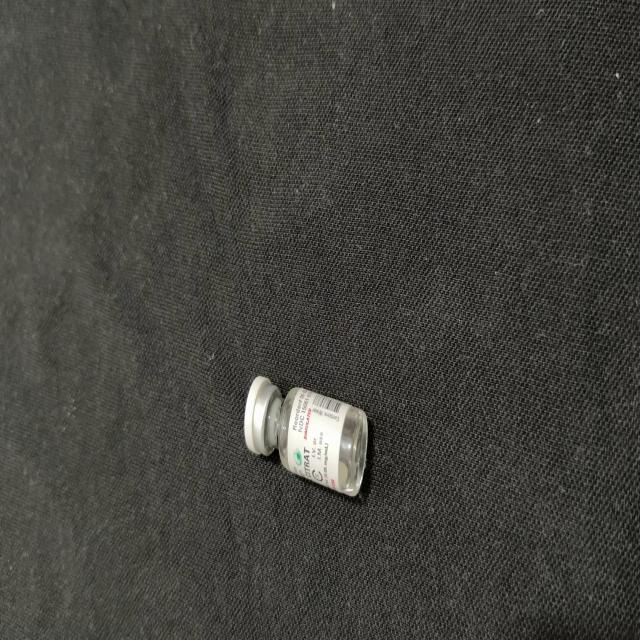fentanl_citrat: (246, 377, 366, 496)
